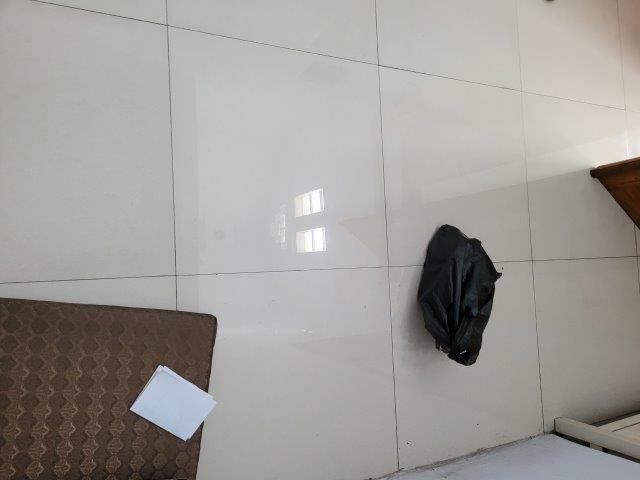kertas: (130, 365, 215, 439)
plastik: (419, 223, 501, 364)
